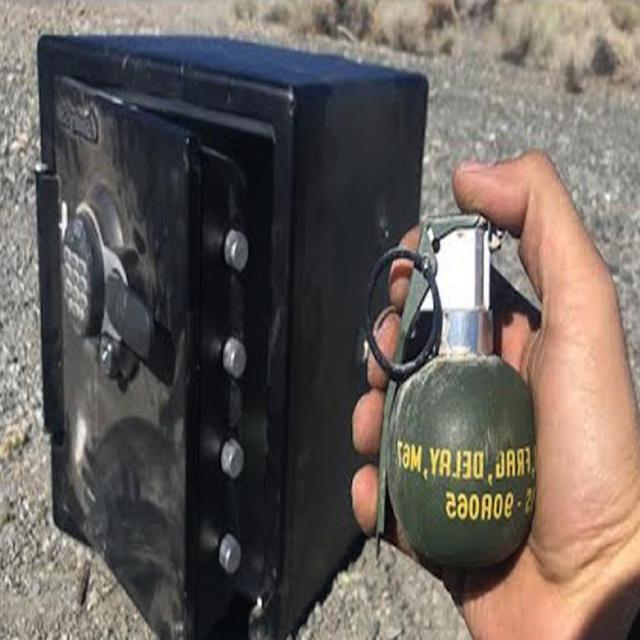grenade: (376, 211, 544, 579)
